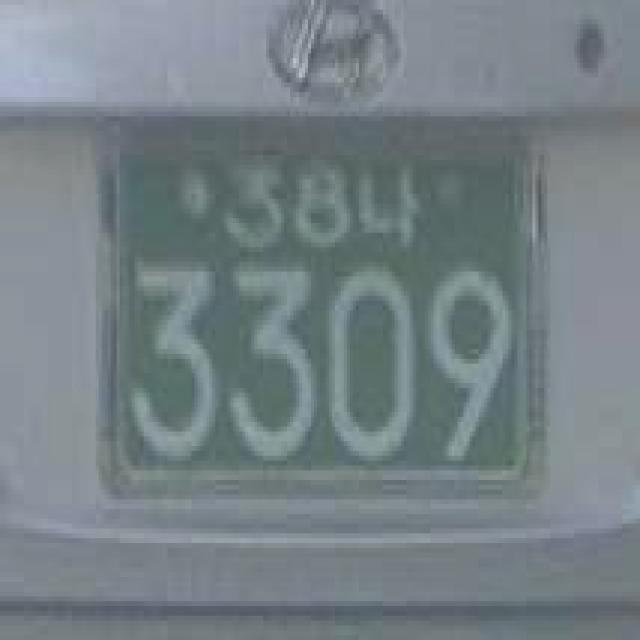illegal_plate: (83, 99, 559, 536)
